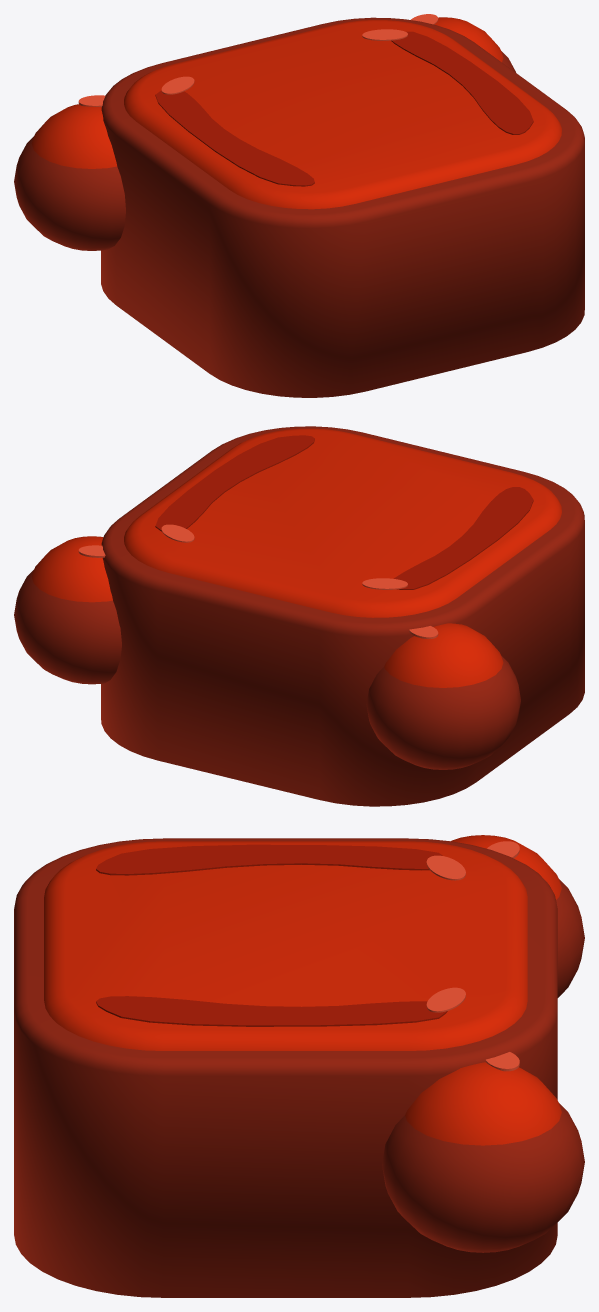
File: body_basico_vermelho.fbx
3 views of the same model, one above another, from view 1: azimuth 30°, elevation 25°; view 2: azimuth 150°, elevation 25°; view 3: azimuth 270°, elevation 25° (orthographic). The views are drawn at different scales.
Visible parts, largest first — view 1: body_basico_vermelho_corpo, body_basico_vermelho_mao_esq, body_basico_vermelho_mao; view 2: body_basico_vermelho_corpo, body_basico_vermelho_mao_esq, body_basico_vermelho_mao; view 3: body_basico_vermelho_corpo, body_basico_vermelho_mao, body_basico_vermelho_mao_esq.
Part boxes in pixels (bbox=[...]): body_basico_vermelho_corpo: bbox=[101, 17, 584, 397]; body_basico_vermelho_mao_esq: bbox=[14, 95, 125, 250]; body_basico_vermelho_mao: bbox=[411, 14, 515, 72]; body_basico_vermelho_corpo: bbox=[101, 426, 584, 806]; body_basico_vermelho_mao_esq: bbox=[366, 623, 520, 769]; body_basico_vermelho_mao: bbox=[14, 536, 121, 684]; body_basico_vermelho_corpo: bbox=[14, 838, 557, 1297]; body_basico_vermelho_mao: bbox=[382, 1052, 584, 1252]; body_basico_vermelho_mao_esq: bbox=[451, 835, 584, 997].
Size of the model in its own units: 5.4 by 2.03 by 4.2.
Materials: 1 (1 with a texture image).
